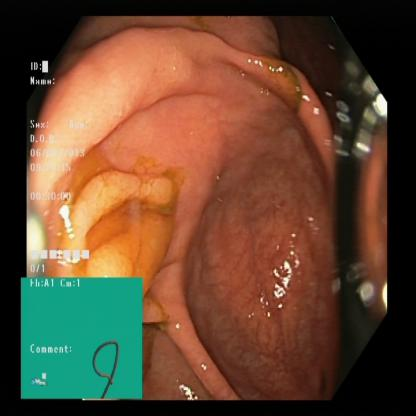Polyps: (81, 178, 173, 274)
